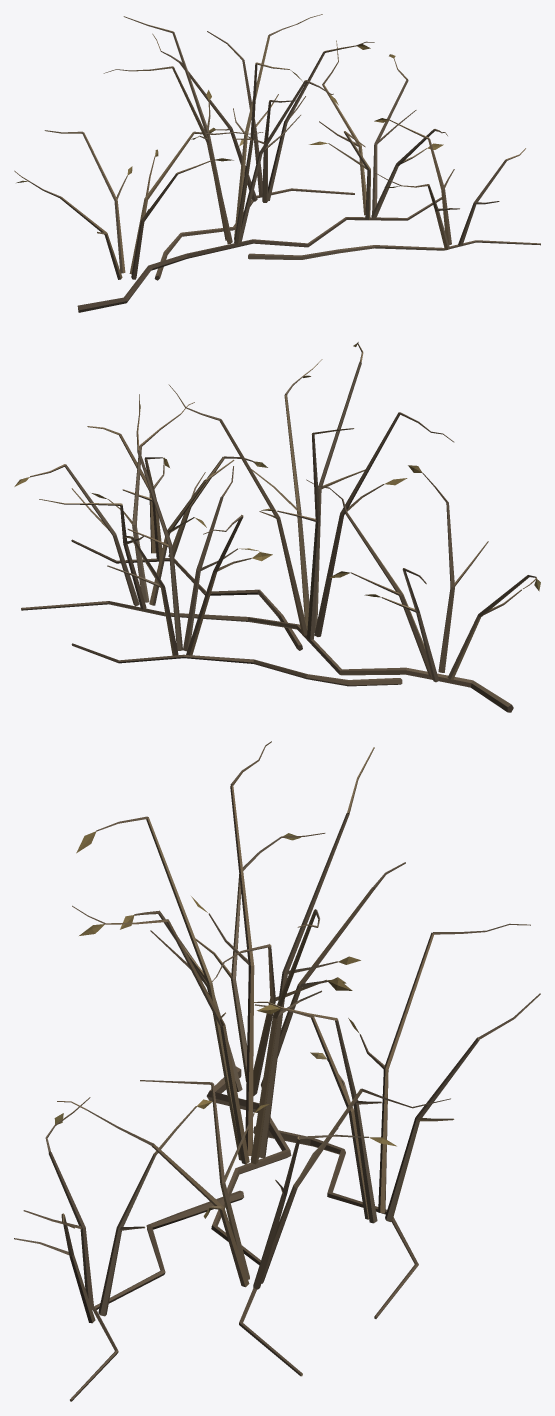
3 views of the same model, one above another, from view 1: azimuth 30°, elevation 25°; view 2: azimuth 150°, elevation 25°; view 3: azimuth 270°, elevation 25° (orthographic). The views are drawn at different scales.
Parts seen in each view (by area): view 1: s04b; view 2: s04b; view 3: s04b.
Boxes of the visible parts, x1,y1,x2,y2 form: s04b: (14,14,540,312); s04b: (14,342,540,712); s04b: (14,741,540,1401).
Size of the model in its own units: 0.82 by 0.42 by 0.5.
